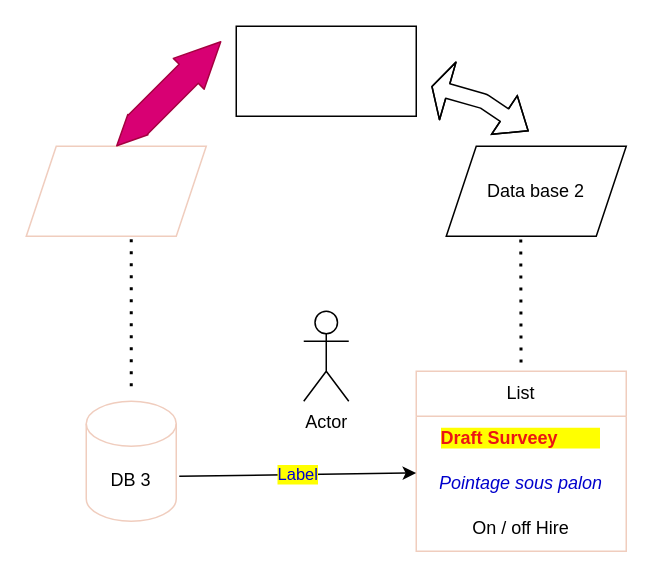
The diagram is 653 pixels wide and 578 high, and some of its shapes have lost their labels. The shapes that lost their labels are listed below. From the top down, each one's centre as x and y in pixels, then its label:
At pixel 325 70: "Server".
At pixel 115 190: "Data base 1".
